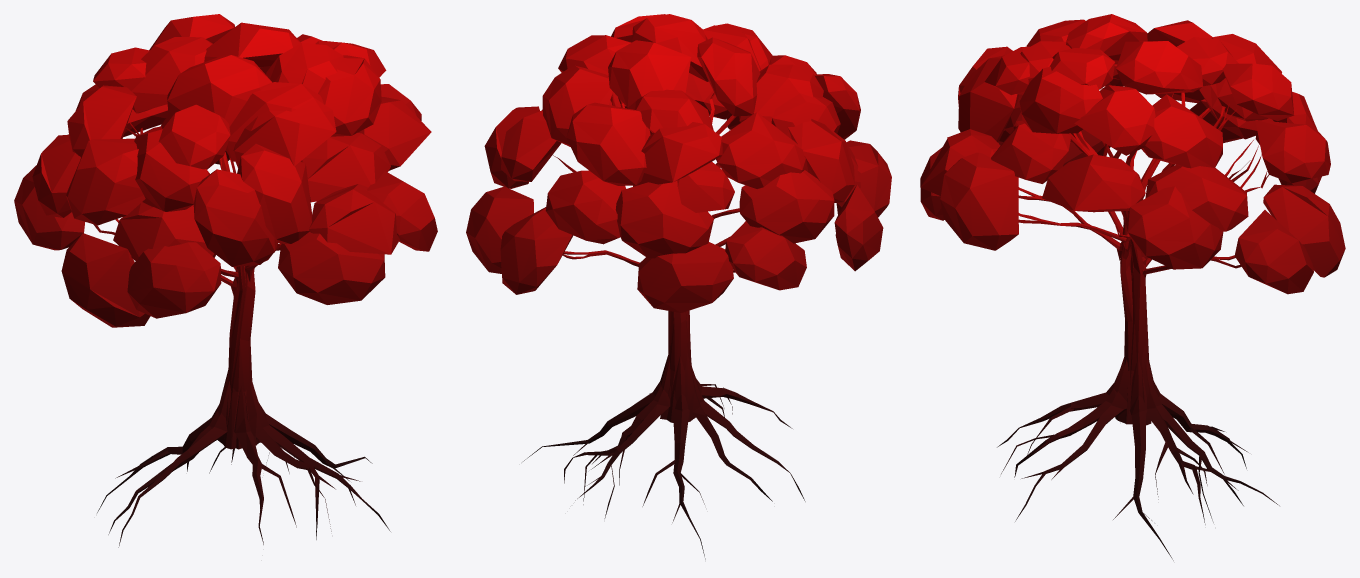
Rendered from TreeMahogany06.fbx.
3 views of the same model, side by side, from view 1: azimuth 30°, elevation 25°; view 2: azimuth 150°, elevation 25°; view 3: azimuth 270°, elevation 25° (orthographic). The views are drawn at different scales.
Visible parts, largest first — view 1: TreeMahogany06_LOD0; view 2: TreeMahogany06_LOD0; view 3: TreeMahogany06_LOD0.
Boxes of the visible parts, x1=… form: TreeMahogany06_LOD0: x1=14, y1=14, x2=437, y2=547; TreeMahogany06_LOD0: x1=466, y1=14, x2=891, y2=559; TreeMahogany06_LOD0: x1=920, y1=14, x2=1345, y2=560.
Size of what is drawn, in the model's own units: 1644 by 2076 by 1660.
